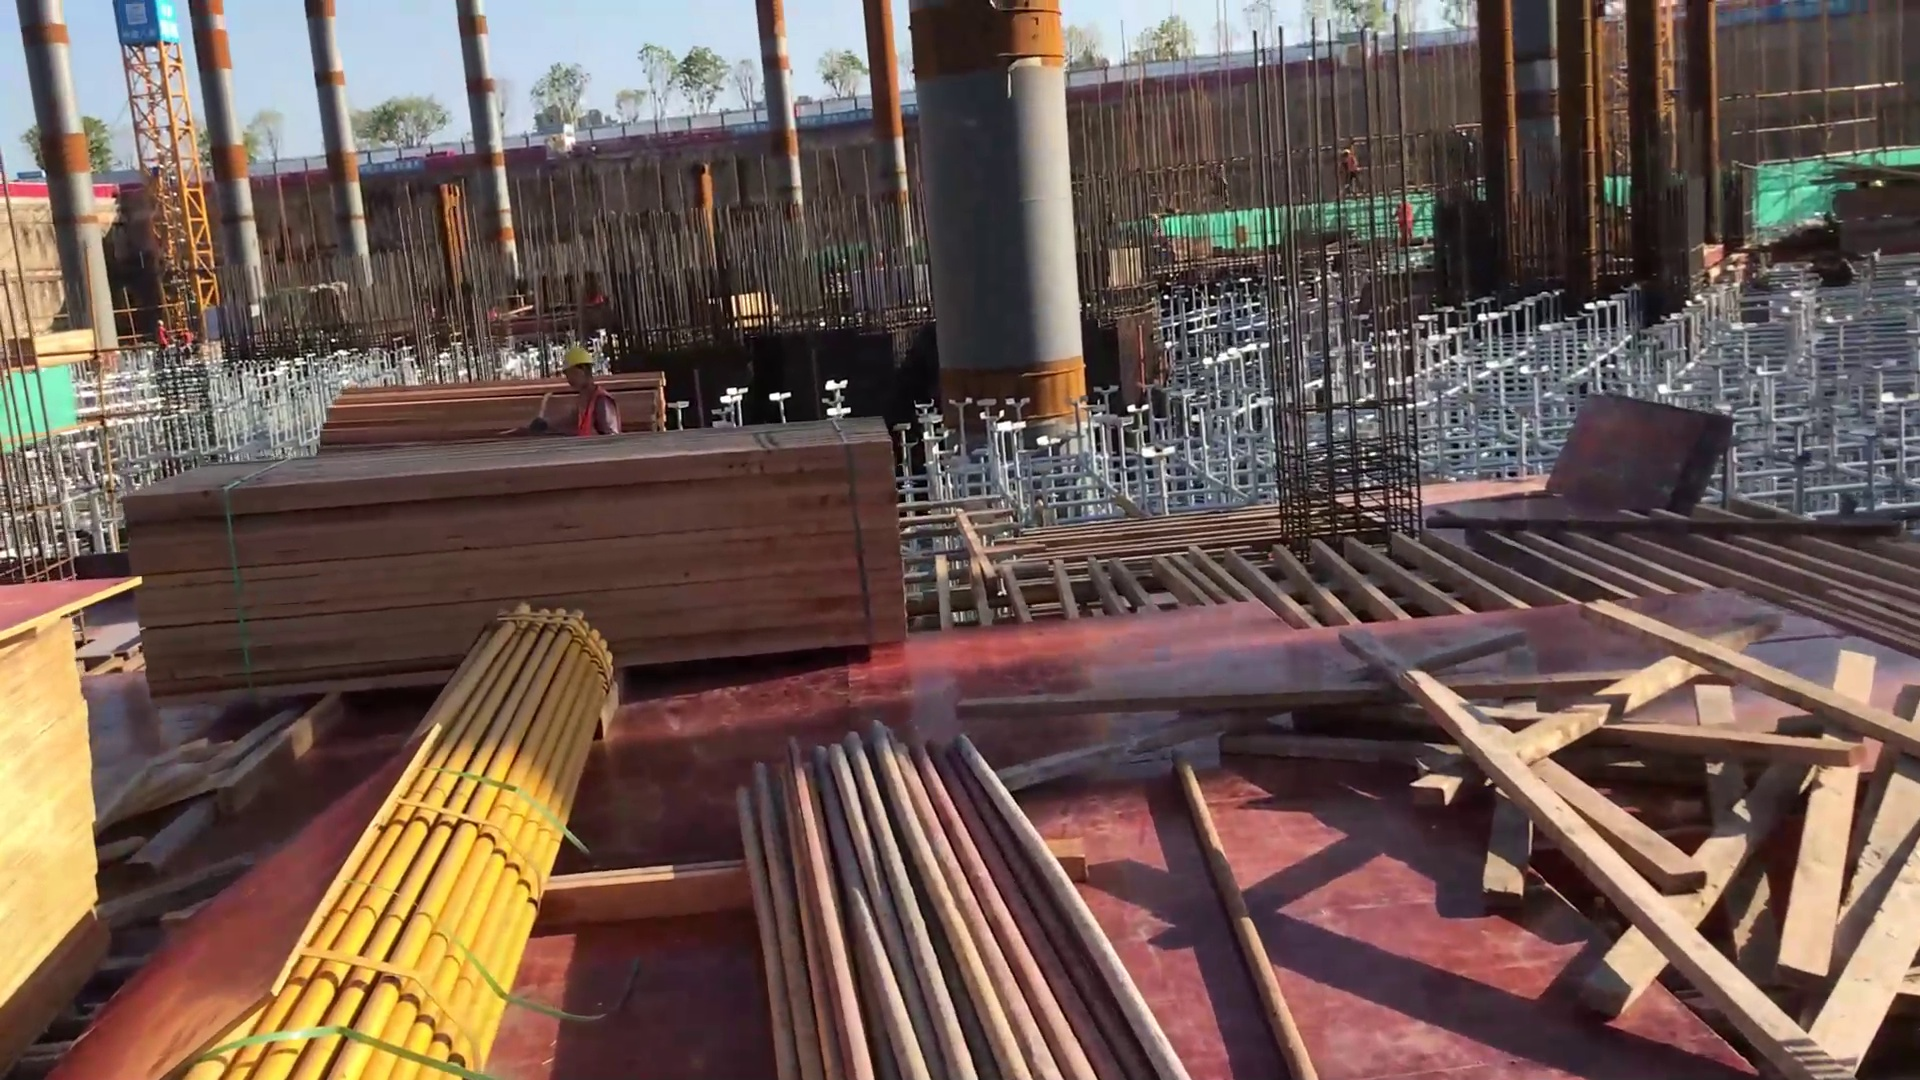board: (1, 556, 171, 999)
helmet: (559, 341, 601, 374)
person: (528, 345, 633, 426)
rebar: (705, 681, 1311, 1080)
vest: (565, 387, 619, 435)
wood: (124, 397, 958, 661)
